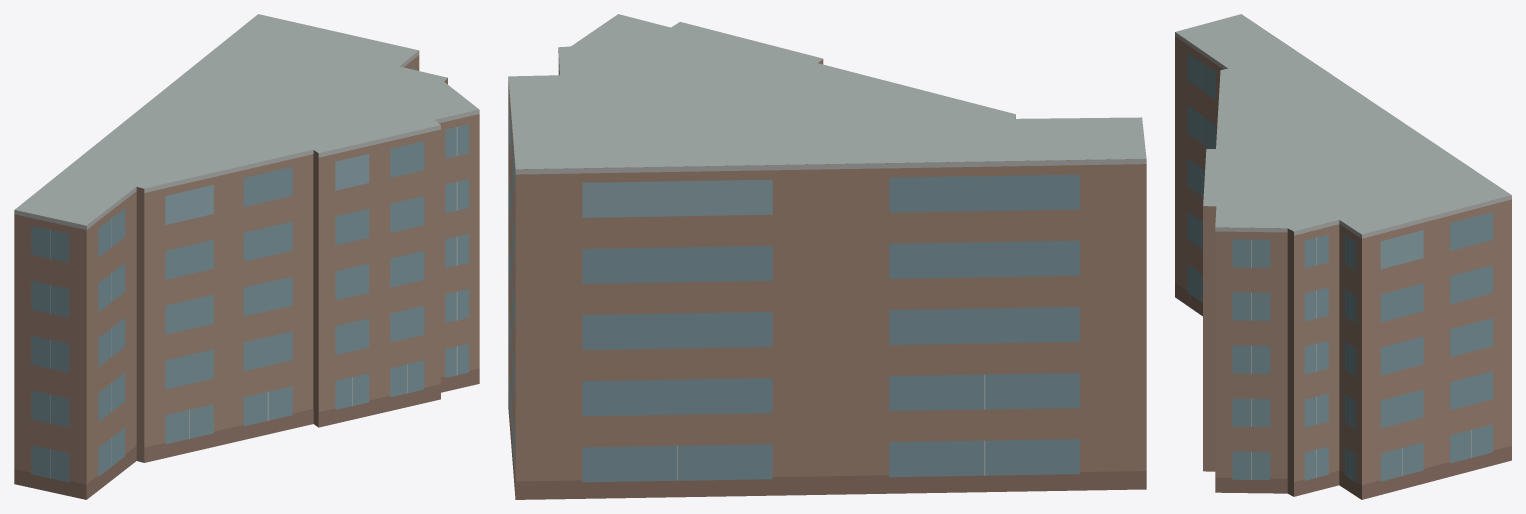
The model's file is survey-upis-33021062.glb.
3 renders of one model, left to right at view 1: azimuth 30°, elevation 25°; view 2: azimuth 150°, elevation 25°; view 3: azimuth 270°, elevation 25°, orthographic. The views are drawn at different scales.
Visible parts, largest first — view 1: survey-upis-33021062.tmp; view 2: survey-upis-33021062.tmp; view 3: survey-upis-33021062.tmp.
Boxes of the visible parts, x1,y1,x2,y2 form: survey-upis-33021062.tmp: [14, 14, 479, 499]; survey-upis-33021062.tmp: [508, 14, 1146, 499]; survey-upis-33021062.tmp: [1175, 14, 1511, 499].
Size of the model in its own units: 27.19 by 15.25 by 17.55.
